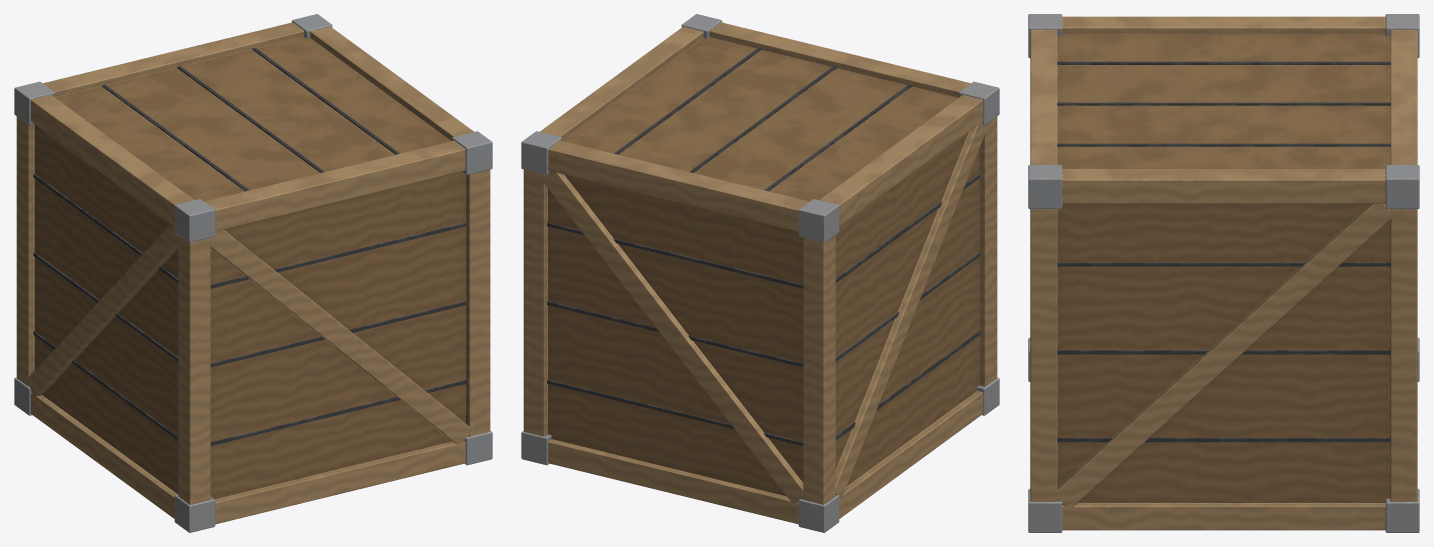
Rendered from smallcrate.fbx.
3 renders of one model, left to right at view 1: azimuth 30°, elevation 25°; view 2: azimuth 150°, elevation 25°; view 3: azimuth 270°, elevation 25°, orthographic. The views are drawn at different scales.
Visible parts, largest first — view 1: crate; view 2: crate; view 3: crate.
Boxes of the visible parts, bbox=[...] form: crate: bbox=[14, 14, 492, 532]; crate: bbox=[521, 14, 999, 532]; crate: bbox=[1028, 14, 1419, 532].
Size of the model in its own units: 0.606 by 0.606 by 0.606.
